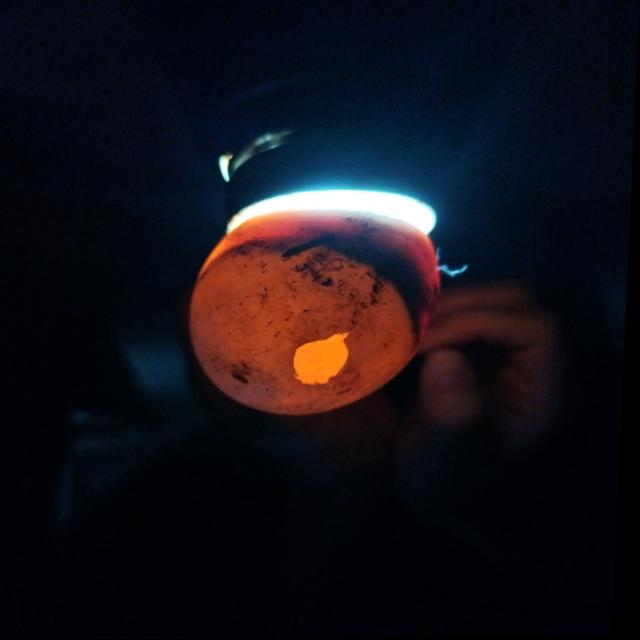Area Infectada: (197, 226, 433, 361)
